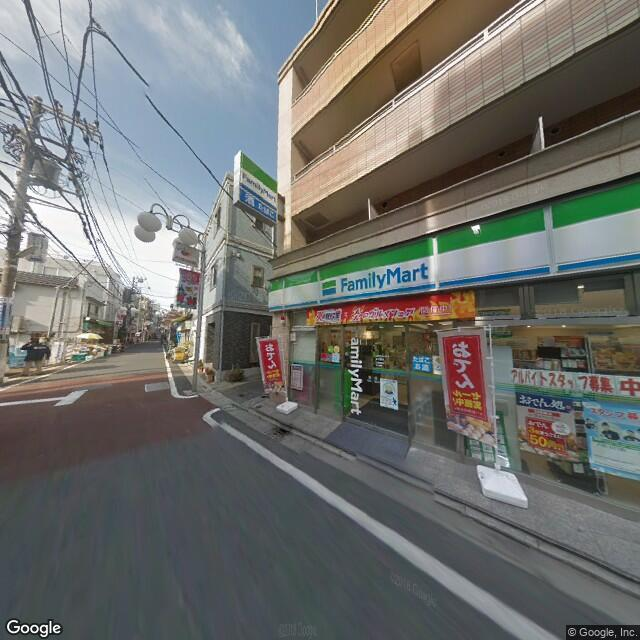family_mart: (268, 172, 639, 315), (238, 150, 279, 214)
